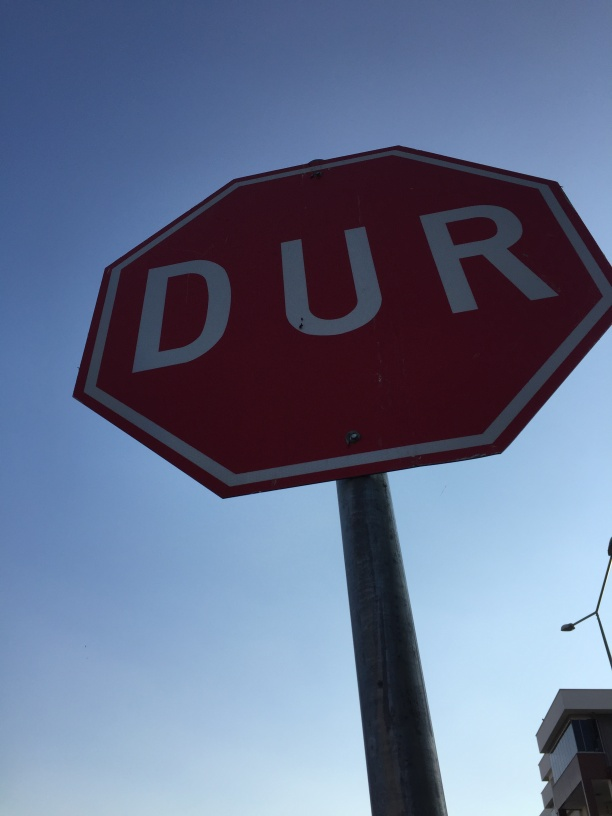arac_dur_isareti: (65, 139, 609, 617), (574, 616, 605, 645)
